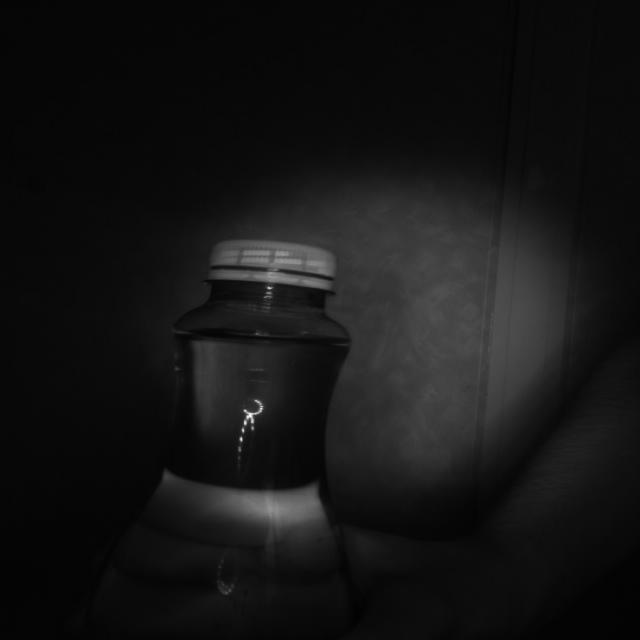Not Good: (208, 240, 336, 291)
